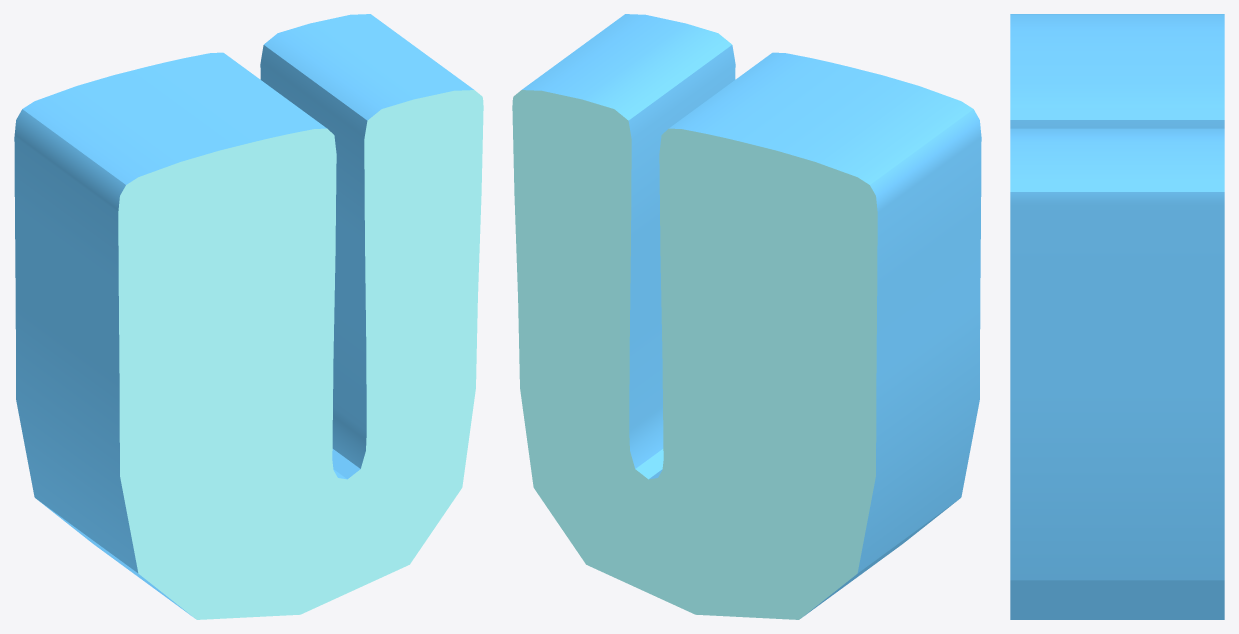
The picture shows the model from 3 angles, left to right: view 1: azimuth 30°, elevation 25°; view 2: azimuth 150°, elevation 25°; view 3: azimuth 270°, elevation 25°; orthographic projection. The views are drawn at different scales.
Parts seen in each view (by area): view 1: u.001; view 2: u.001; view 3: u.001.
Boxes of the visible parts, left/top/right/bottom form: u.001: left=14, top=14, right=483, bottom=619; u.001: left=512, top=14, right=981, bottom=619; u.001: left=1010, top=14, right=1224, bottom=619.
Size of what is drawn, in the model's own units: 0.3655 by 0.4664 by 0.18.
